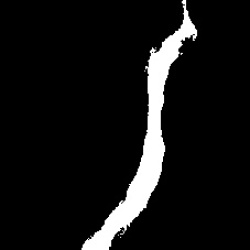crack: (81, 3, 198, 247)
